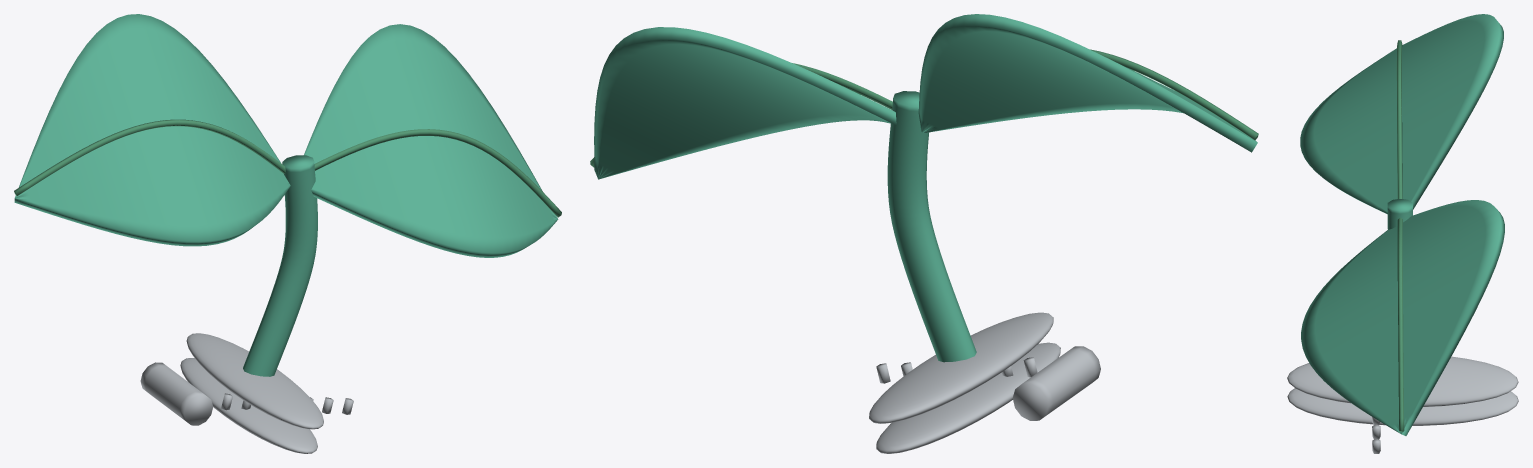
The model's file is Feminine-curls-pashmina249-sprout.glb.
3 renders of one model, left to right at view 1: azimuth 30°, elevation 25°; view 2: azimuth 150°, elevation 25°; view 3: azimuth 270°, elevation 25°, orthographic. The views are drawn at different scales.
Parts seen in each view (by area): view 1: 226 extra / Accessory / mint226, 226 extra / Sprout / clip silver235, 226 extra / Sprout / leaf vein235; view 2: 226 extra / Accessory / mint226, 226 extra / Sprout / clip silver235, 226 extra / Sprout / leaf vein235; view 3: 226 extra / Accessory / mint226, 226 extra / Sprout / clip silver235, 226 extra / Sprout / leaf vein235.
Part boxes in pixels (x1,y1,x2,y2): 226 extra / Accessory / mint226: [14, 14, 558, 376]; 226 extra / Sprout / clip silver235: [140, 333, 353, 453]; 226 extra / Sprout / leaf vein235: [14, 119, 561, 217]; 226 extra / Accessory / mint226: [594, 14, 1257, 362]; 226 extra / Sprout / clip silver235: [869, 312, 1100, 453]; 226 extra / Sprout / leaf vein235: [590, 49, 1258, 167]; 226 extra / Accessory / mint226: [1300, 14, 1504, 435]; 226 extra / Sprout / clip silver235: [1287, 356, 1518, 453]; 226 extra / Sprout / leaf vein235: [1396, 40, 1404, 431].
Bounding box in the file's own units: 0.2623 × 0.1774 × 0.104.
